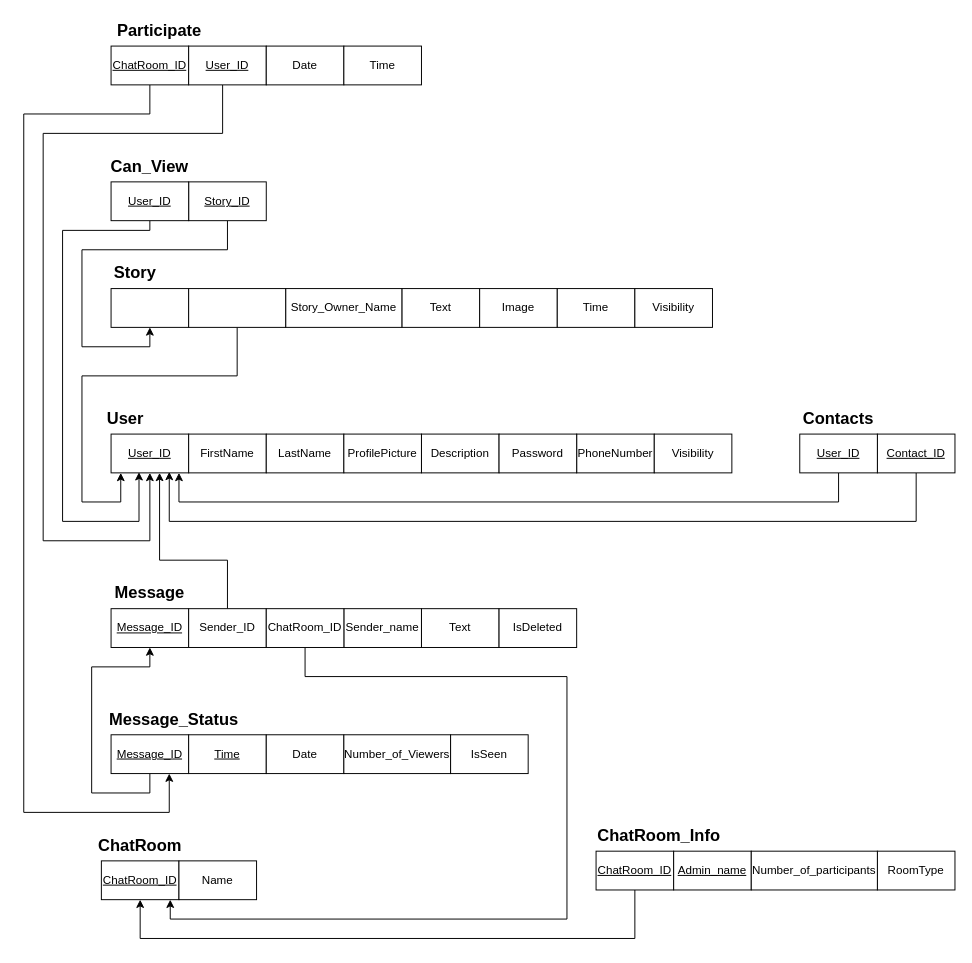
The diagram is 972 pixels wide and 963 high, and some of its shapes have lost their labels. The shapes that lost their labels are listed below. From the top down, each one's box as (x1, y1, x2, y2) in pixels, then its label:
(110, 288, 189, 327): Stody_ID
(188, 288, 286, 327): Story_Owner_ID
